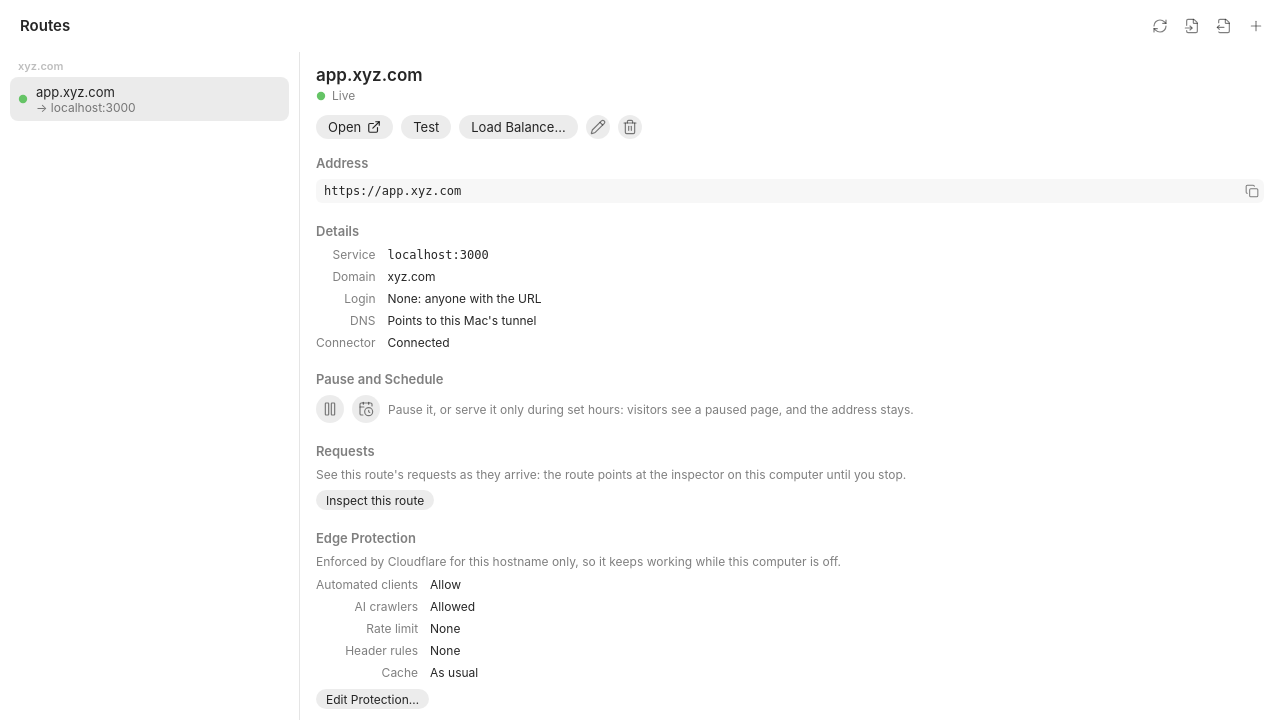
Test case: RoutesPage › adds a route: form → review → apply → verified
The image size is (1280, 720).
Expected: the option "app.xyz.com → localhost:3000" is shown, [10,77,289,121]
Click the button named "New route" at (1256, 26), box [1244,14,1268,38]
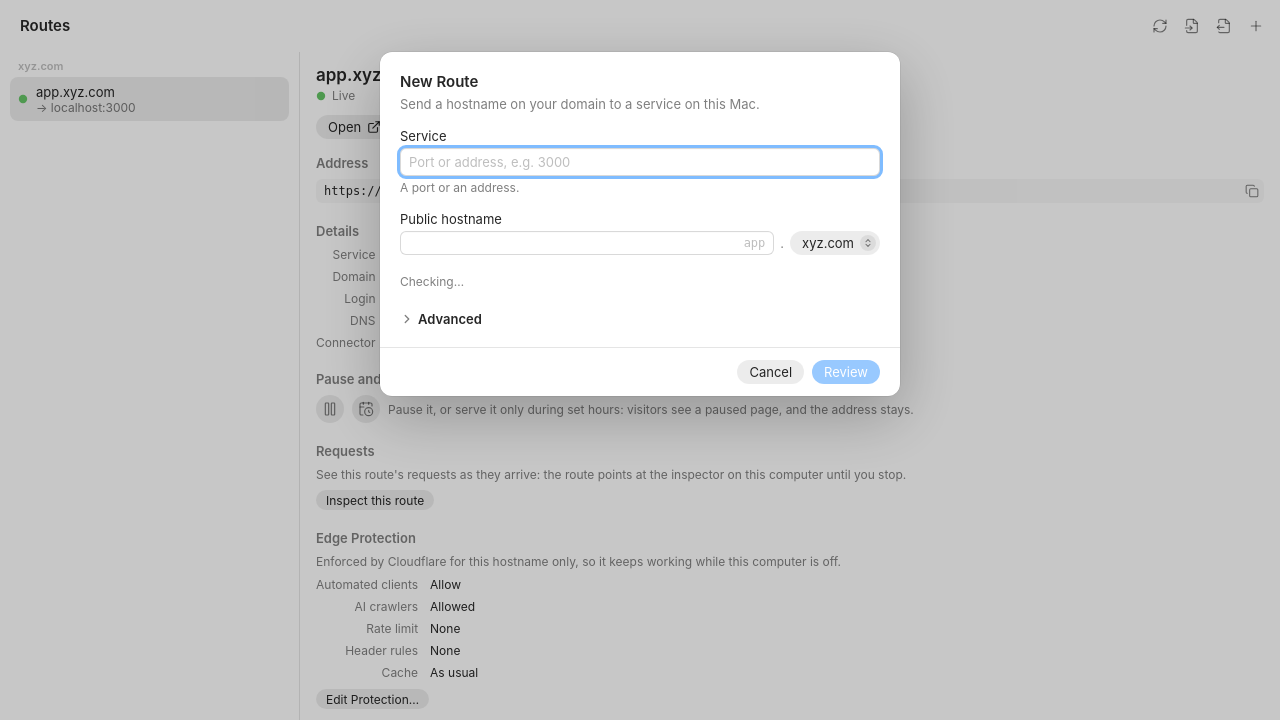
Type "5000" into the dropdown labelled "Port or address" at (640, 162), box [400,148,880,176]
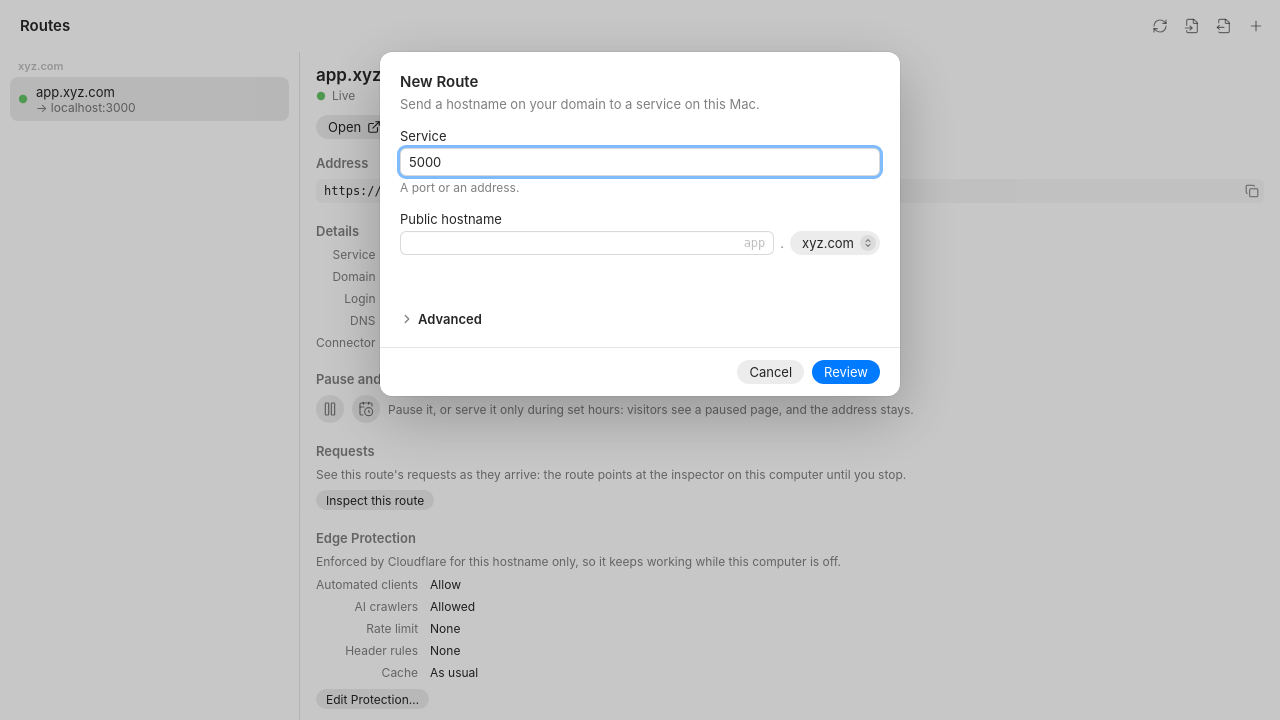
Type "api" into the field named "Subdomain" at (587, 243), box [400,231,774,255]
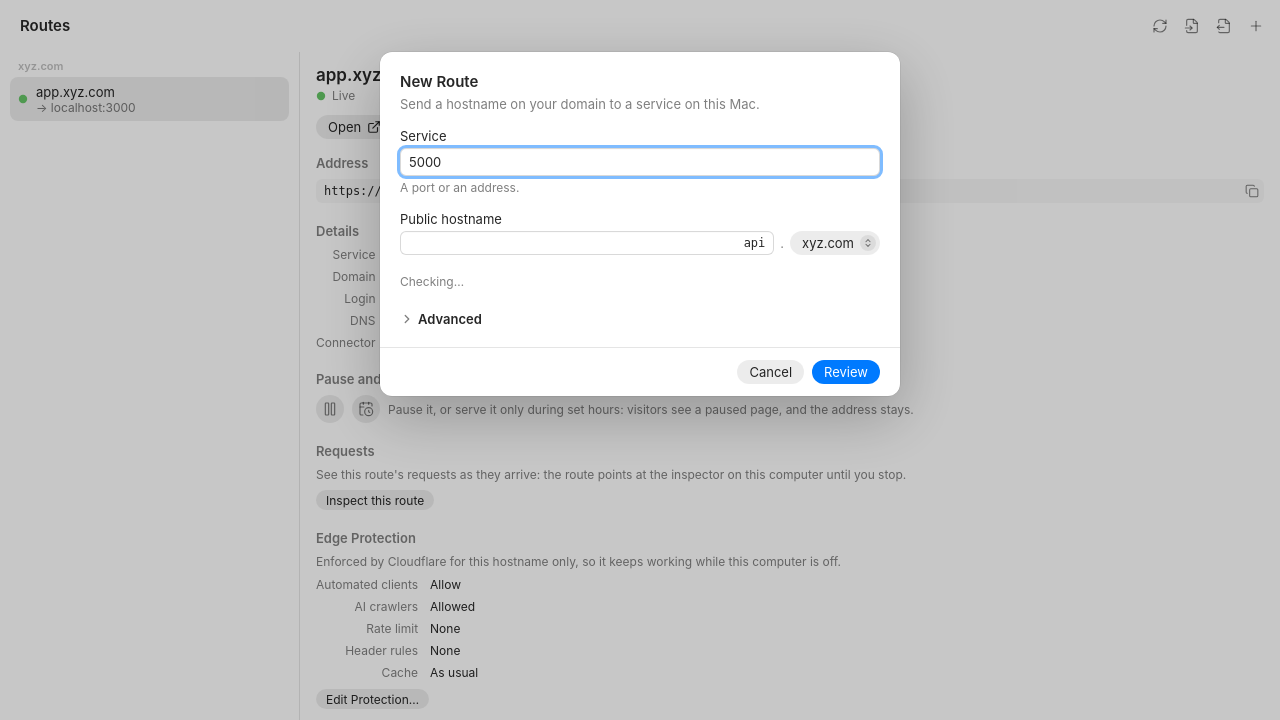
Click the button "Review" at (846, 372), box [812,360,880,384]
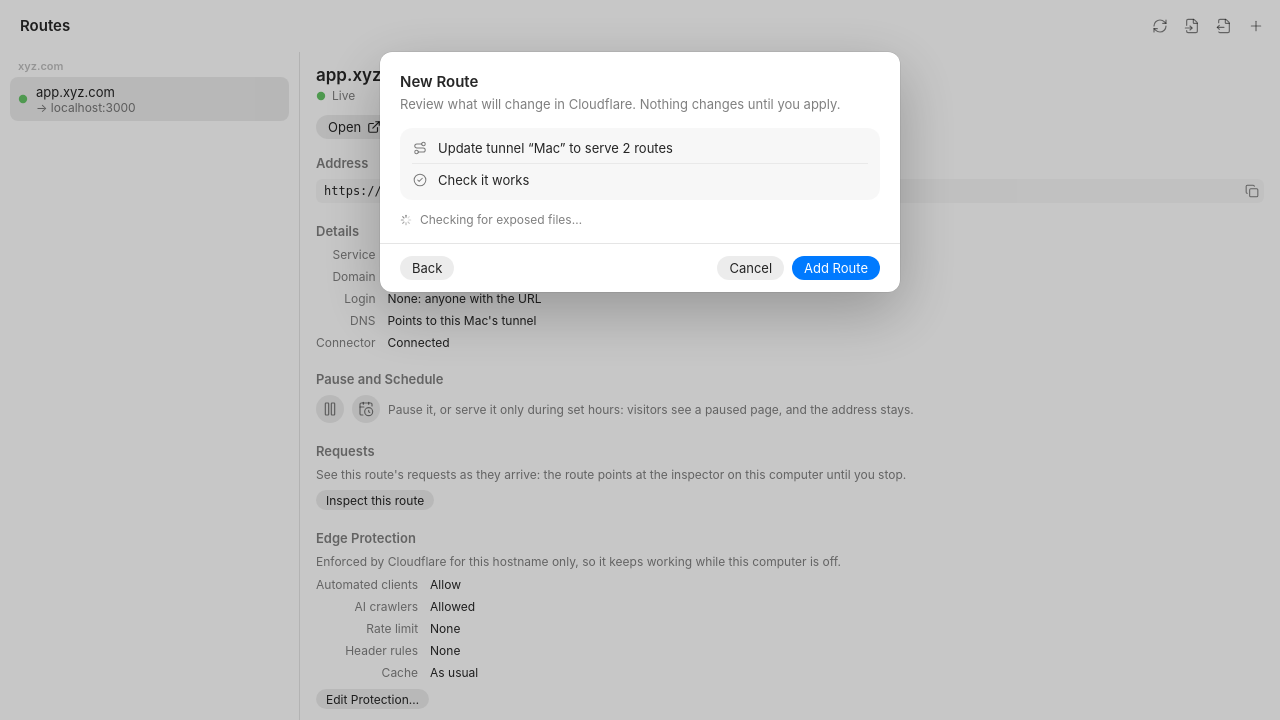
Result: the text "Update tunnel “Mac” to serve 2 routes" is shown at [438,140,673,156]
Click the button "Add Route" at (836, 268), box [792,256,880,280]
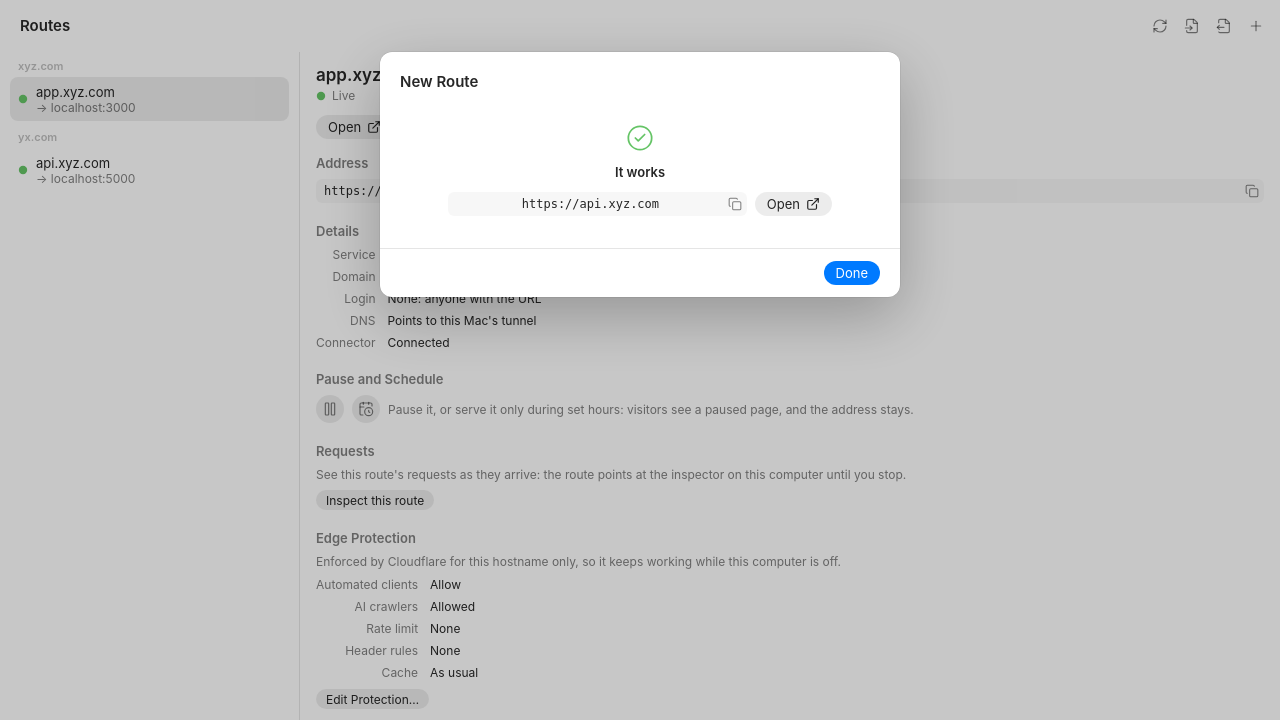
Result: the text "It works" is shown at [615,164,665,180]
Result: the option "api.xyz.com → localhost:5000" is shown at [18,154,135,186]
